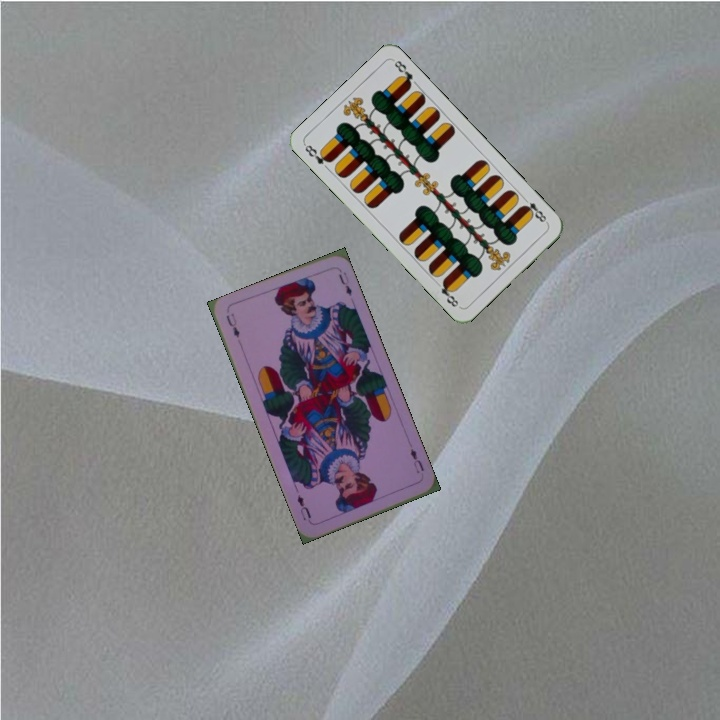E8: (518, 193, 550, 226), (301, 141, 334, 167)
EU: (406, 444, 427, 476), (222, 309, 242, 341)
